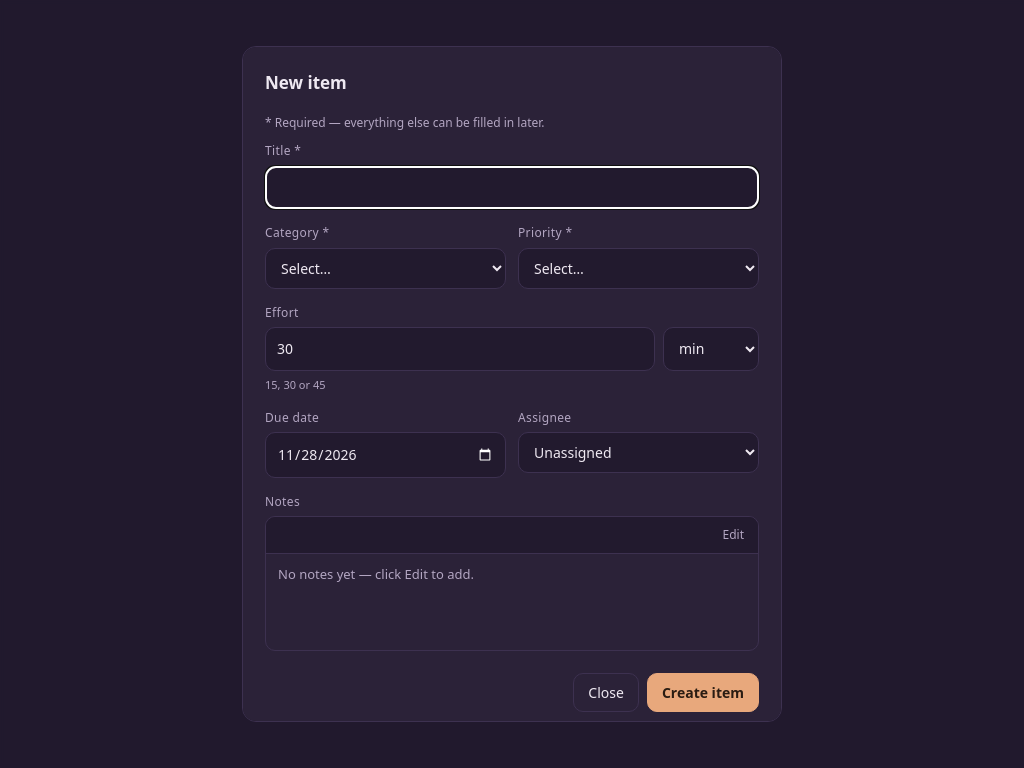
Scenario: ItemFormModal — effort validation › switching unit to HOURS resets an invalid value to that unit's minimum
The width and height of the screenshot is (1024, 768).
Select "hr" in the dropdown named "Effort unit": (711, 349) 663,327 -> 759,370
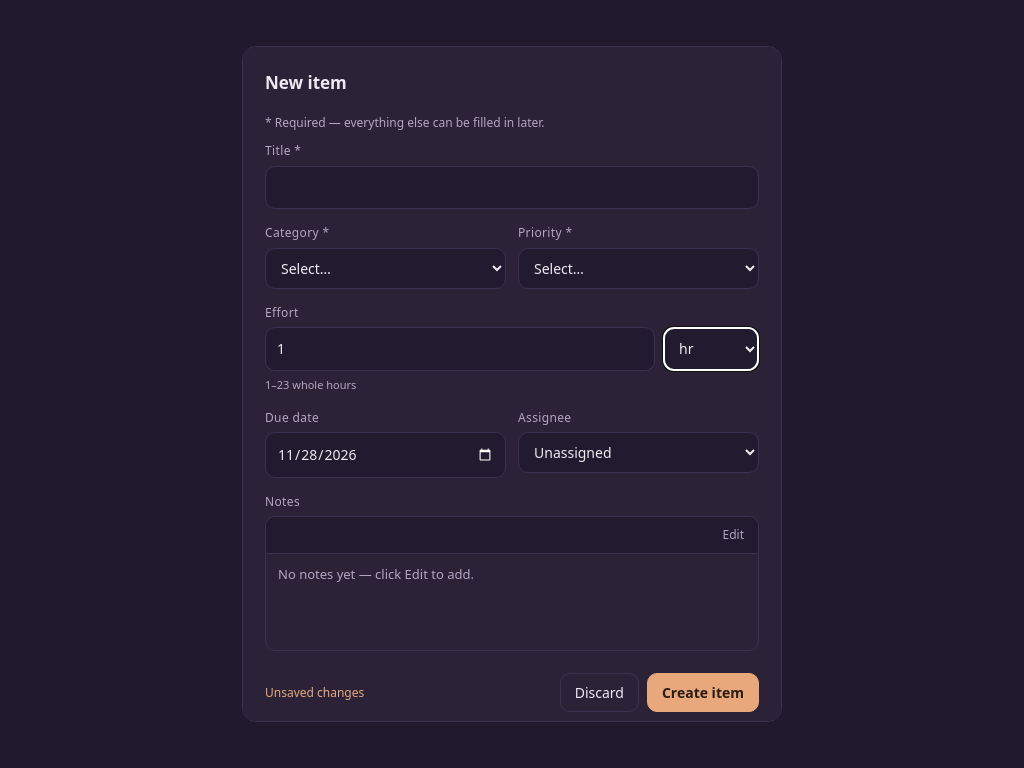
Now the number field labelled "Effort" holds "1", box 265,327 -> 655,370
